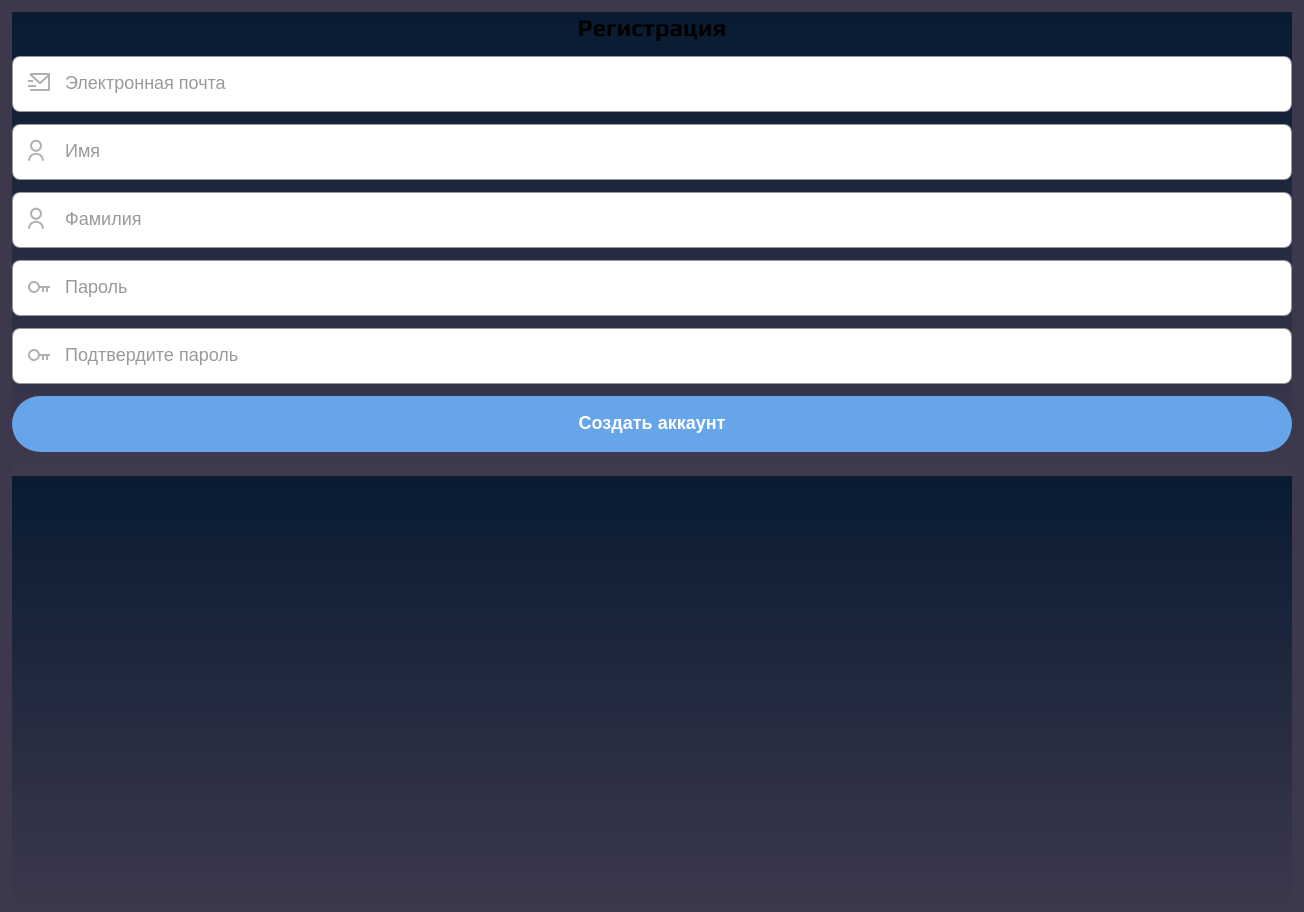
Test case: RegisterForm › shows validation error for short password
In the field with placeholder "Электронная почта": (652, 84) [12,56,1292,112], type "test@example.com"
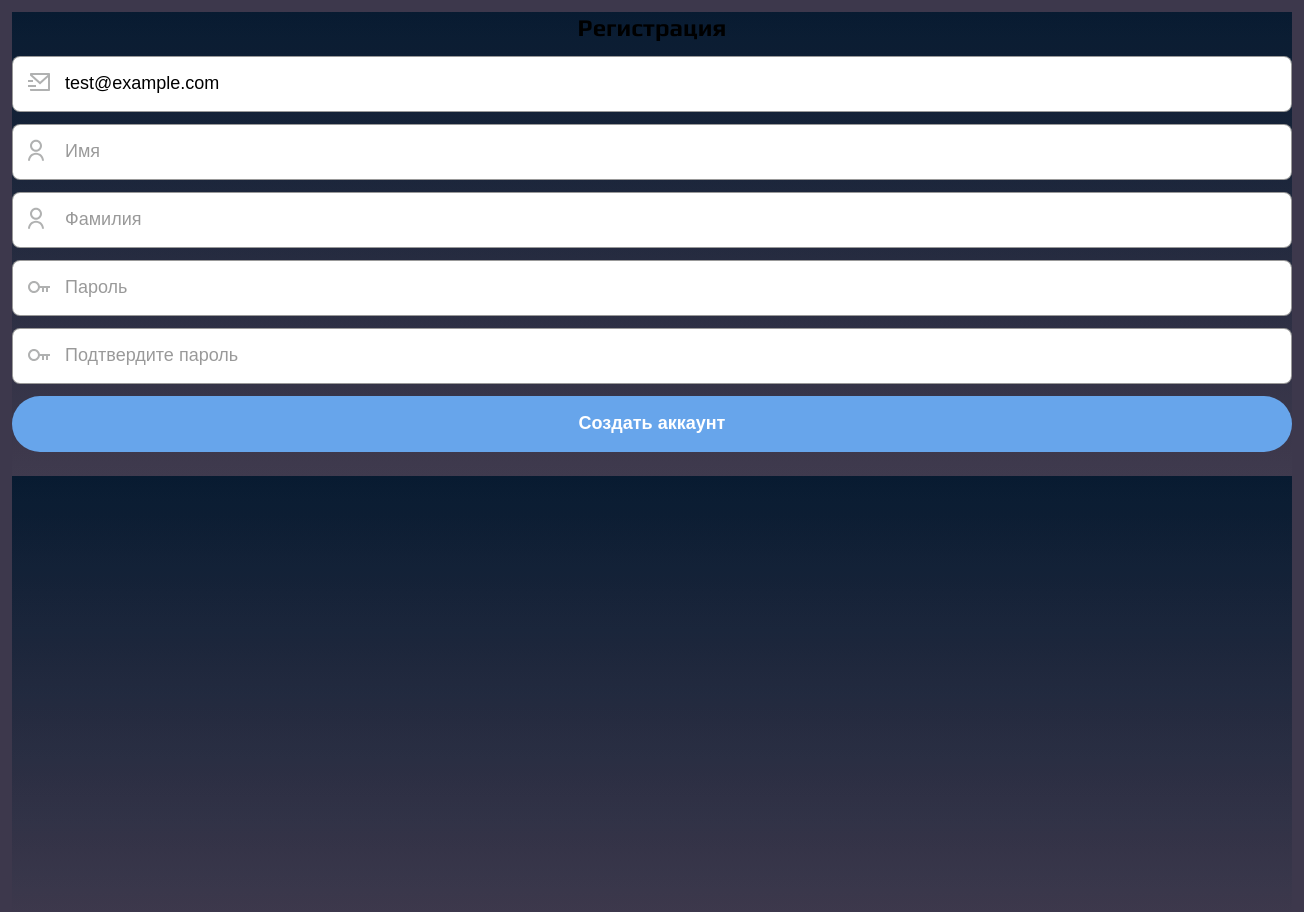
In the field with placeholder "Имя": (652, 152) [12,124,1292,180], type "John"
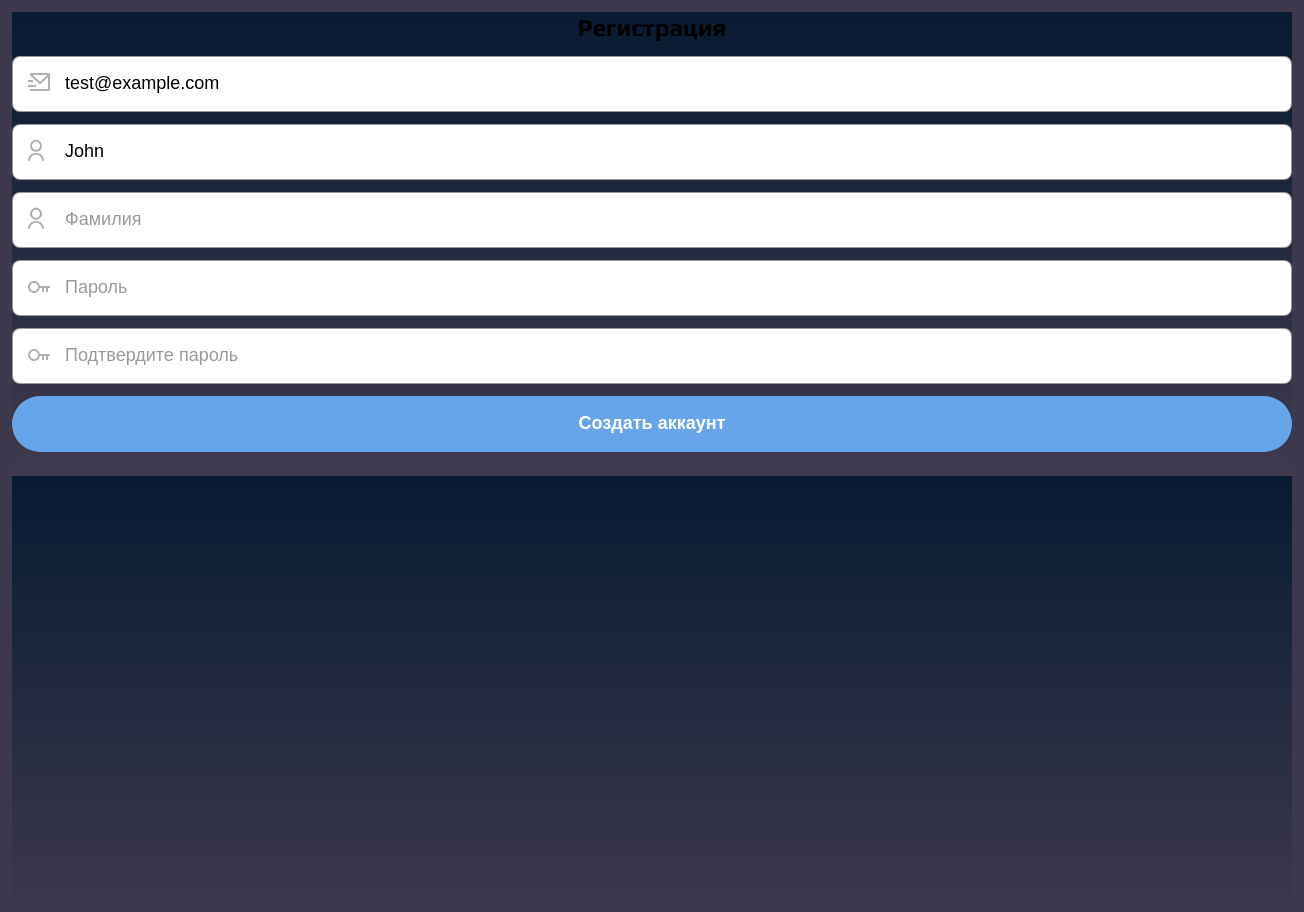
In the field with placeholder "Фамилия": (652, 220) [12,192,1292,248], type "Doe"
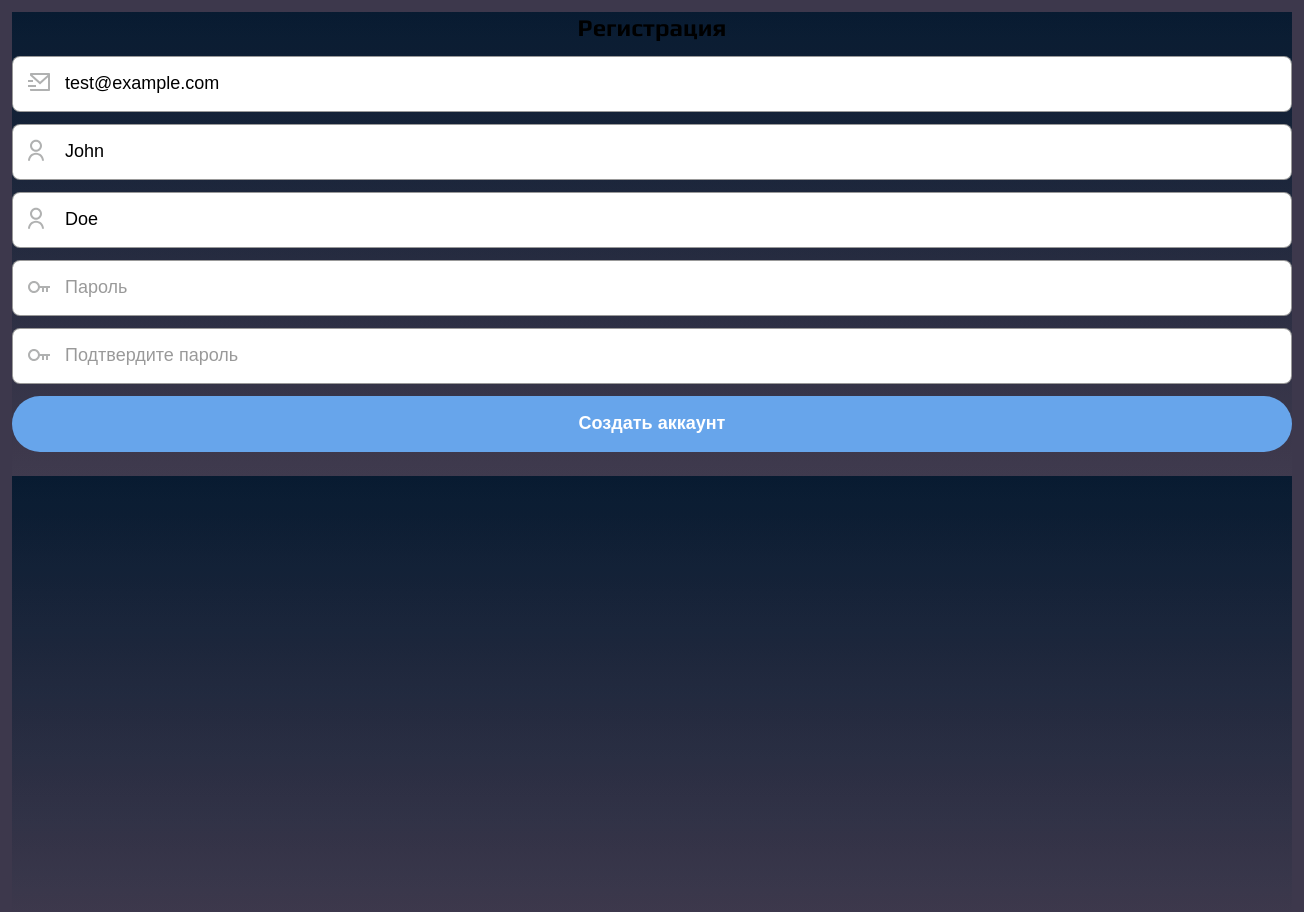
In the password field with placeholder "Пароль": (652, 288) [12,260,1292,316], type "short"
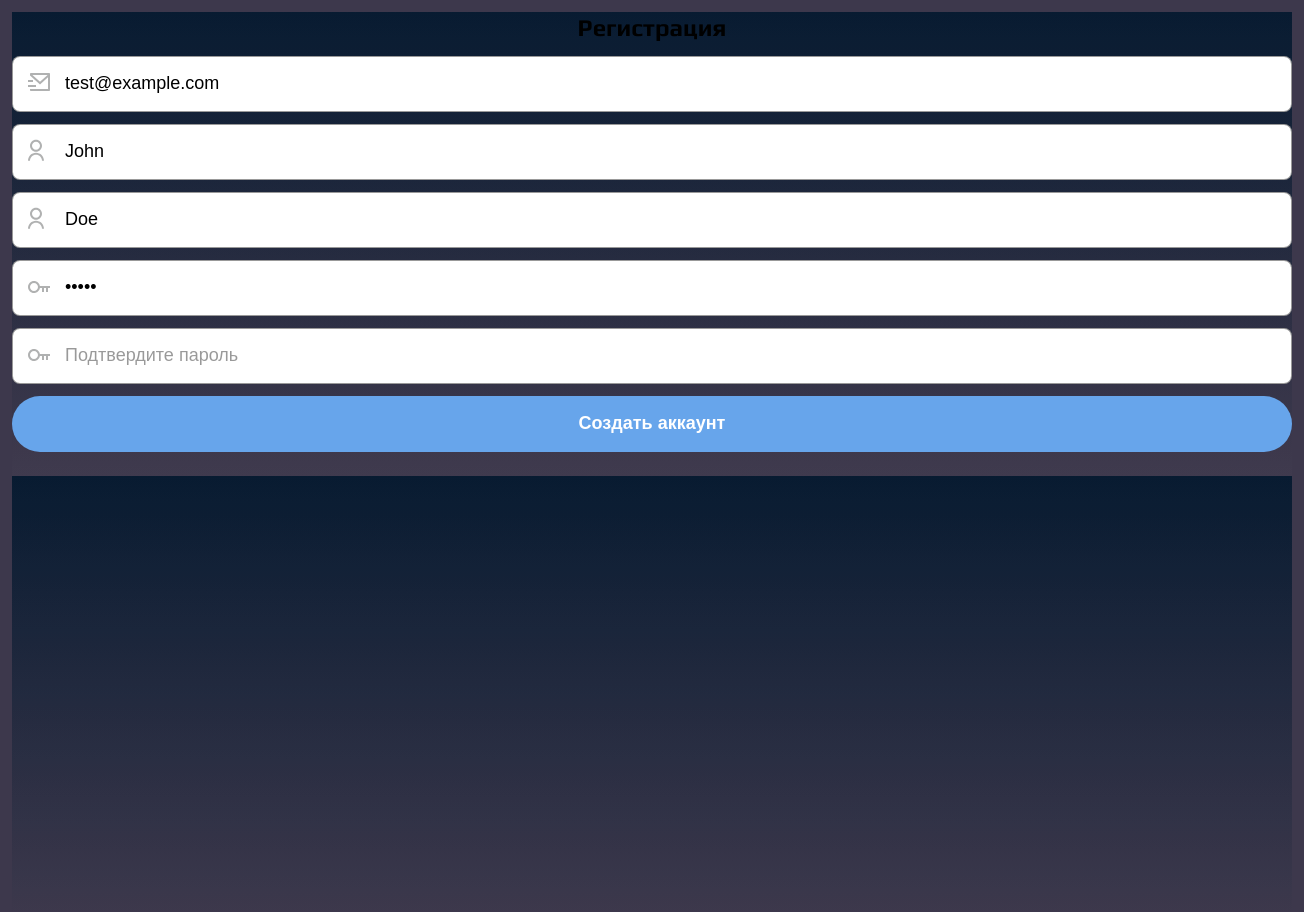
In the password field with placeholder "Подтвердите пароль": (652, 356) [12,328,1292,384], type "password123"
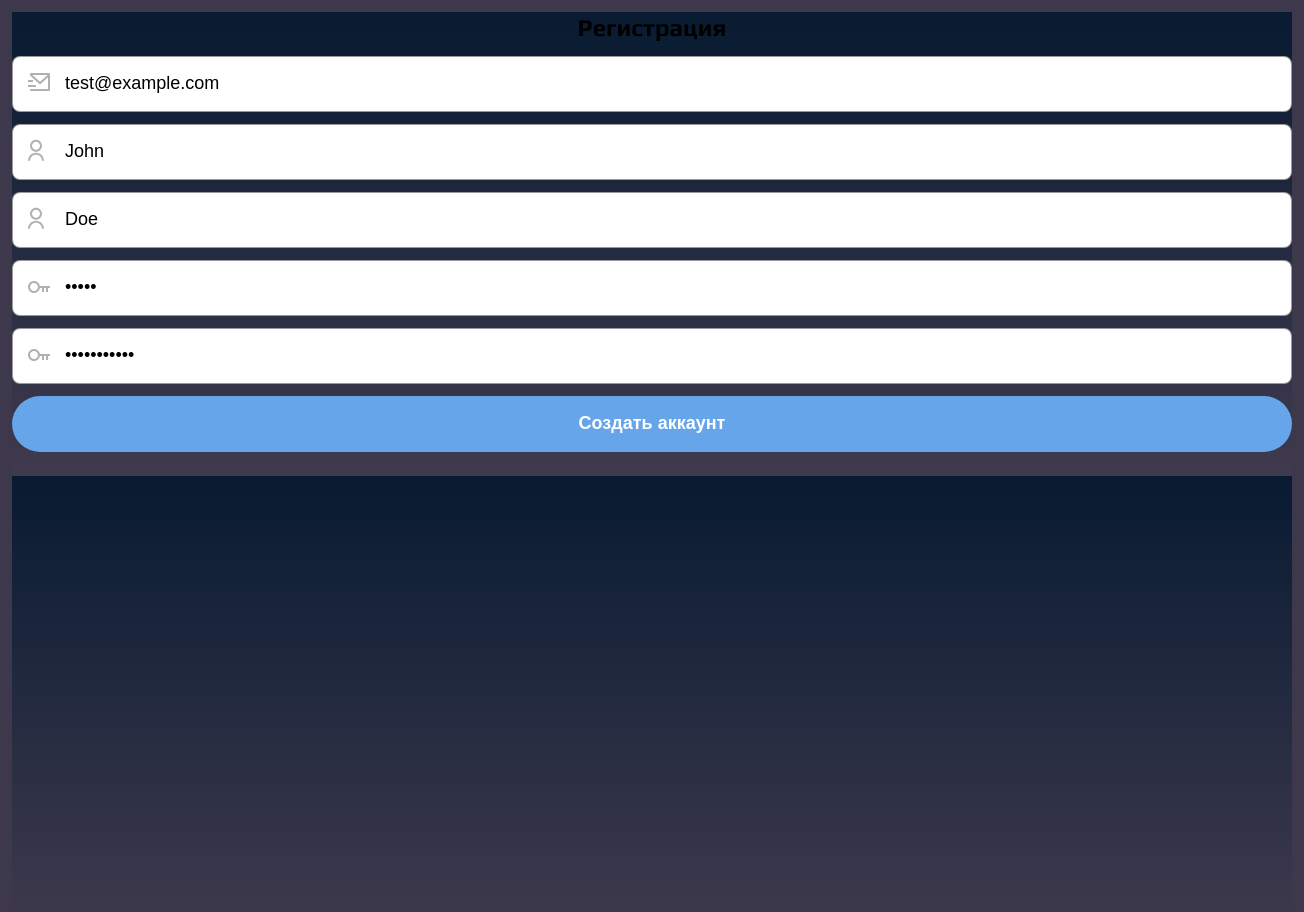
Click the button "Создать аккаунт": (652, 424) [12,396,1292,452]
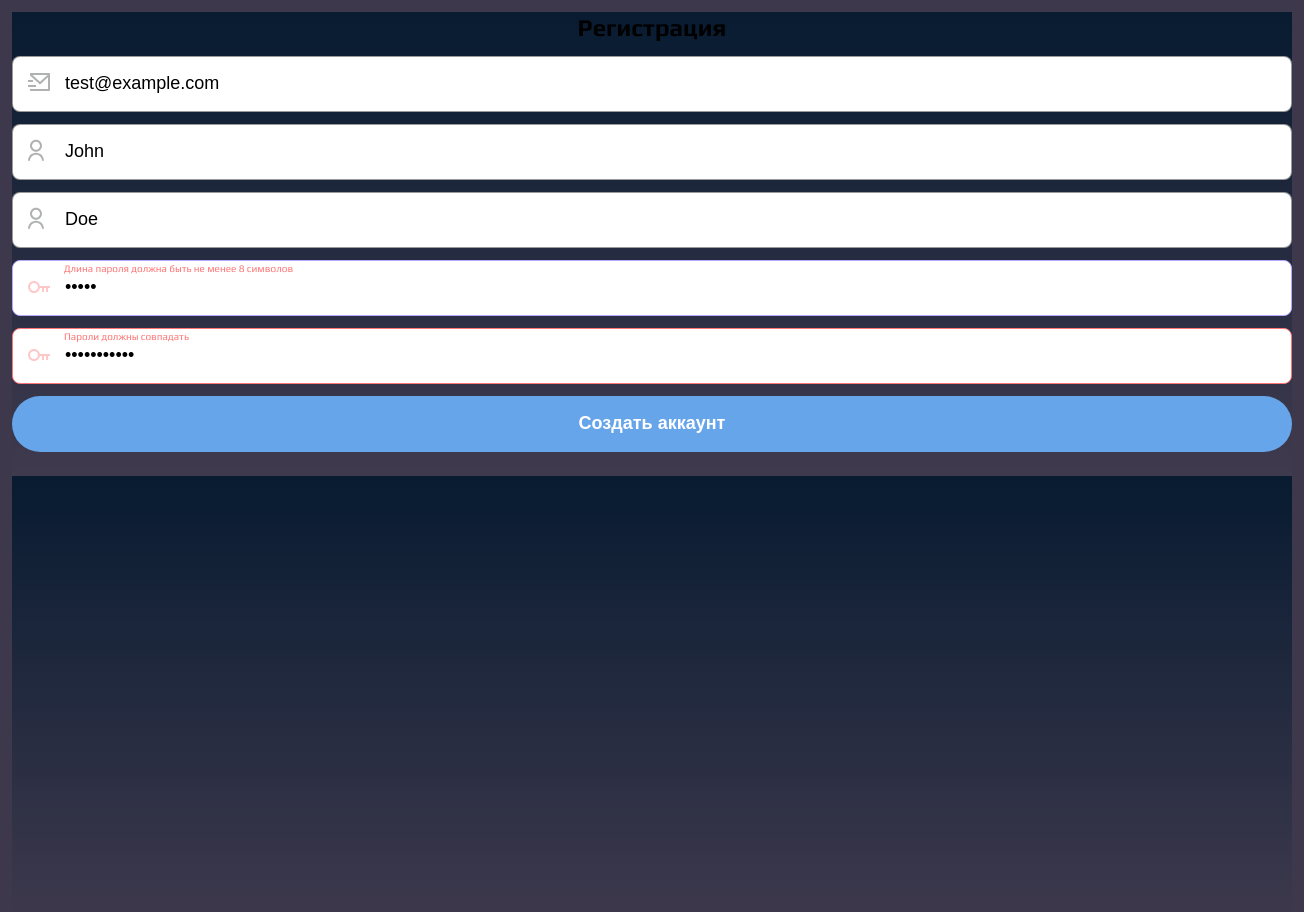
Now the text "Длина пароля должна быть не менее 8 символов" is shown, box [64,263,293,274]
